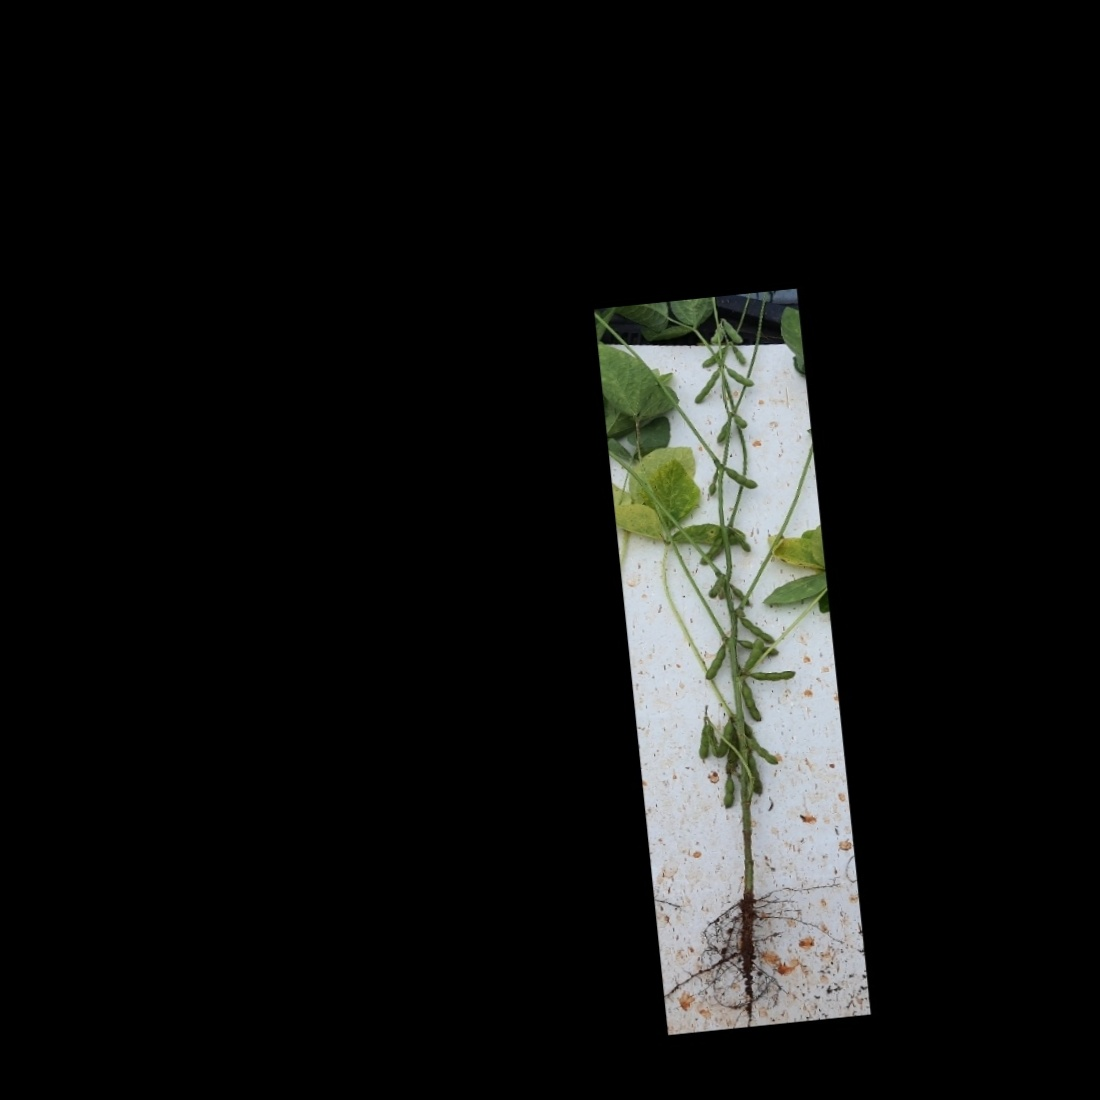pod: (689, 368, 724, 405), (700, 640, 731, 681), (739, 612, 777, 646), (713, 717, 740, 760), (745, 735, 780, 769), (735, 639, 766, 676), (721, 463, 760, 493), (738, 681, 764, 725), (745, 665, 798, 685), (696, 535, 728, 566), (692, 724, 713, 762), (725, 365, 757, 390), (723, 729, 745, 764), (746, 753, 764, 798), (730, 581, 753, 610), (698, 347, 729, 368), (719, 774, 737, 809), (704, 721, 720, 759), (724, 317, 745, 345), (731, 528, 751, 555), (704, 469, 722, 499), (713, 420, 733, 446), (730, 343, 748, 366), (732, 412, 749, 429)
soy: (614, 300, 859, 995)
